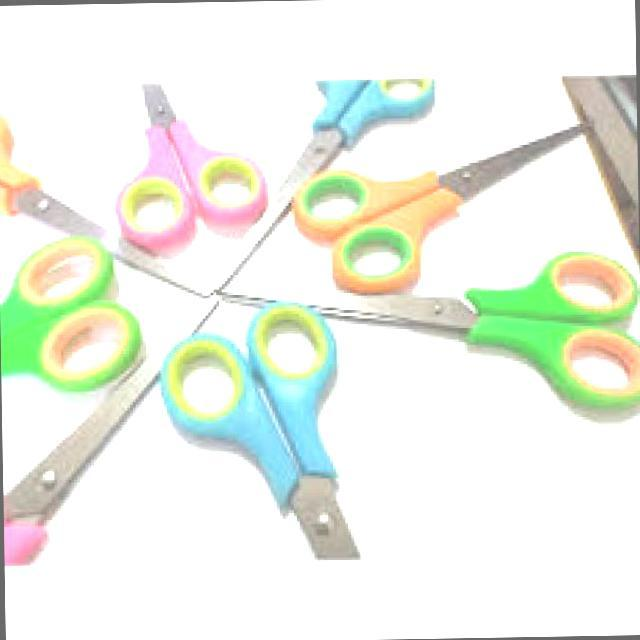Scissors: (218, 237, 640, 436), (117, 80, 456, 293), (0, 274, 229, 564), (284, 110, 634, 293), (143, 298, 370, 572), (0, 100, 167, 337), (108, 82, 280, 256), (0, 238, 139, 417)
